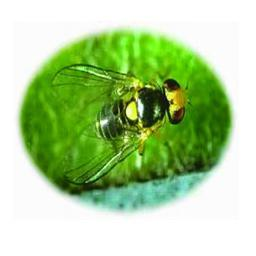liriomyza: (49, 63, 191, 186)
